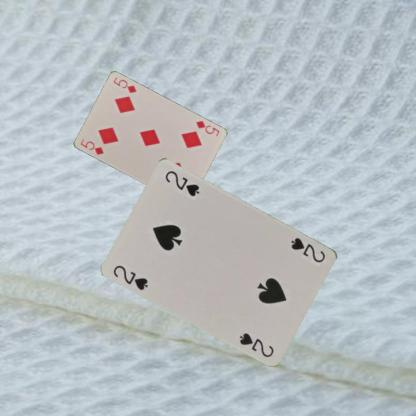2s: (110, 262, 150, 292), (288, 235, 327, 264)
5d: (193, 118, 221, 137), (78, 136, 104, 156)
